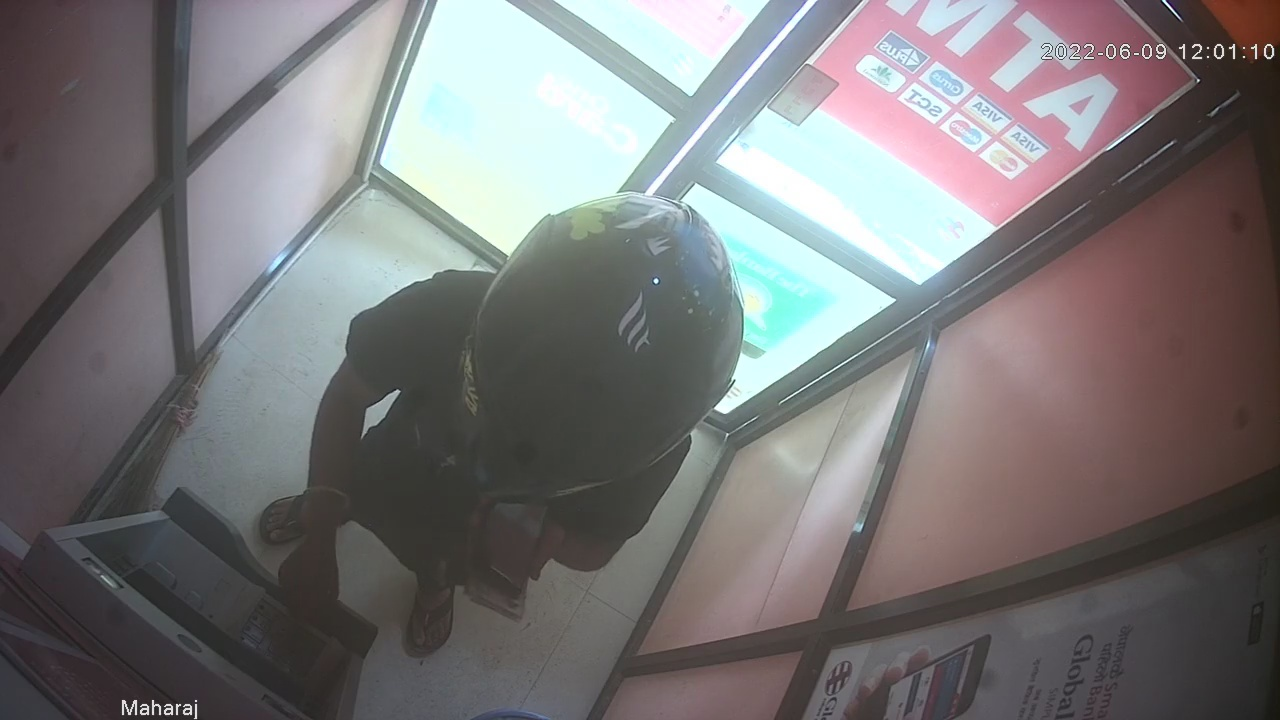helmet: (456, 191, 742, 505)
person: (257, 191, 744, 673)
